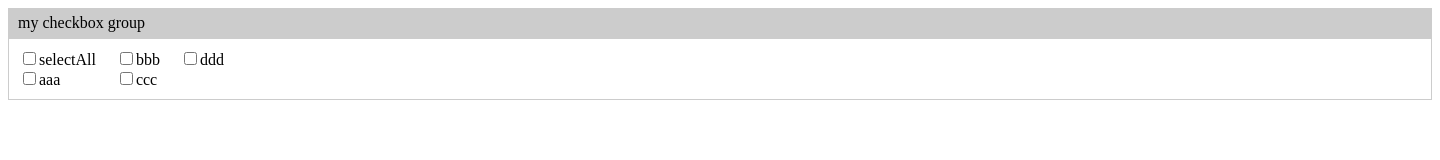
Test case: select-all change with other checkboxs › when all other checkboxs checked, select-all will be checked
Click the checkbox with test id "testid_checkbox" showing "aaa" at (30,78), box [23,72,36,85]
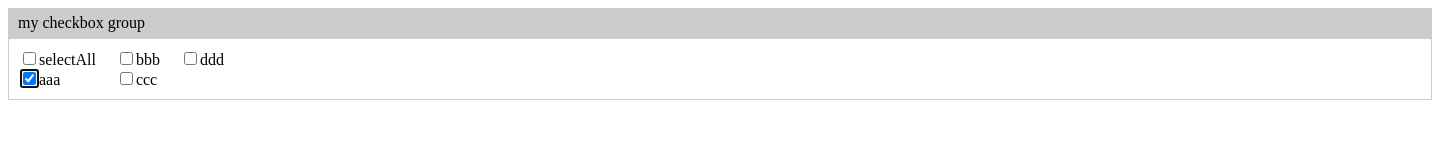
Now the checkbox with test id "testid_checkbox" showing "aaa" is checked, box [23,72,36,85]
Click the checkbox with test id "testid_checkbox" showing "bbb" at (126,58), box [120,52,133,65]
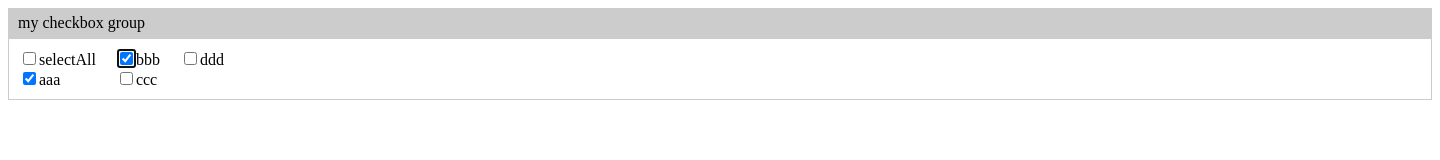
Now the checkbox with test id "testid_checkbox" showing "bbb" is checked, box [120,52,133,65]
Click the checkbox with test id "testid_checkbox" showing "ccc" at (126,78), box [120,72,133,85]
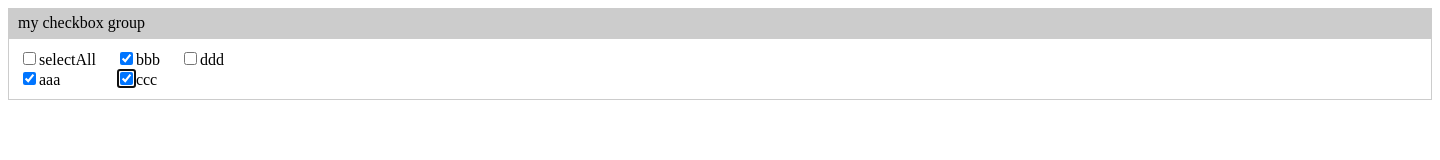
Now the checkbox with test id "testid_checkbox" showing "ccc" is checked, box [120,72,133,85]
Click the checkbox with test id "testid_checkbox" showing "ddd" at (190,58), box [184,52,197,65]
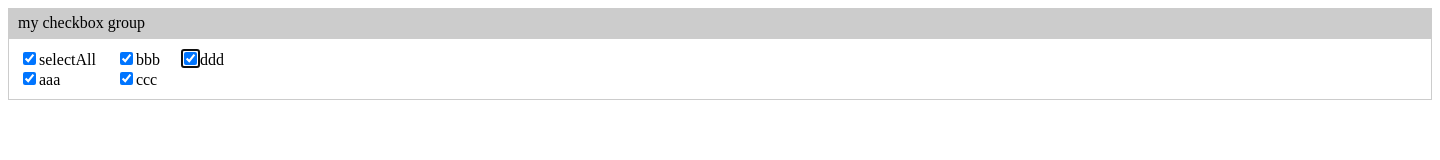
Now the checkbox with test id "testid_checkbox" showing "ddd" is checked, box [184,52,197,65]
Now the checkbox with test id "testid_checkbox" showing "selectAll" is checked, box [23,52,36,65]
